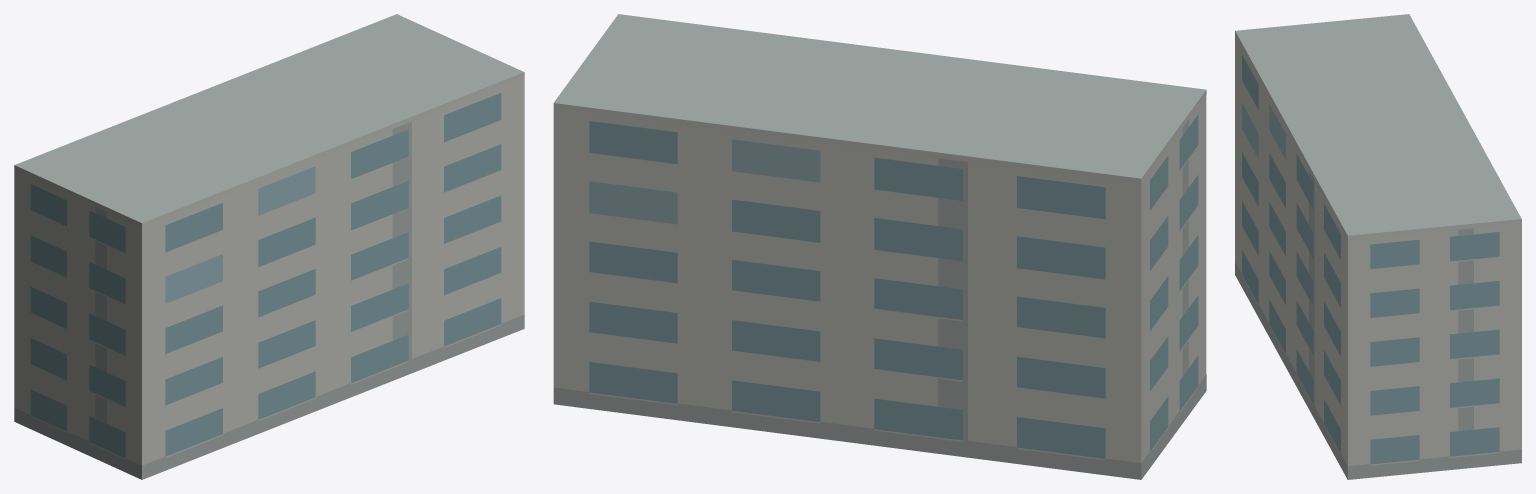
File: survey-upis-32830715.glb
3 views of the same model, side by side, from view 1: azimuth 30°, elevation 25°; view 2: azimuth 150°, elevation 25°; view 3: azimuth 270°, elevation 25° (orthographic). The views are drawn at different scales.
Visible parts, largest first — view 1: survey-upis-32830715.tmp; view 2: survey-upis-32830715.tmp; view 3: survey-upis-32830715.tmp.
Part boxes in pixels (x1,y1,x2,y2): survey-upis-32830715.tmp: (14, 14, 524, 479); survey-upis-32830715.tmp: (553, 14, 1206, 479); survey-upis-32830715.tmp: (1235, 14, 1521, 479).
Bounding box in the file's own units: 25.07 × 12.86 × 13.7.
